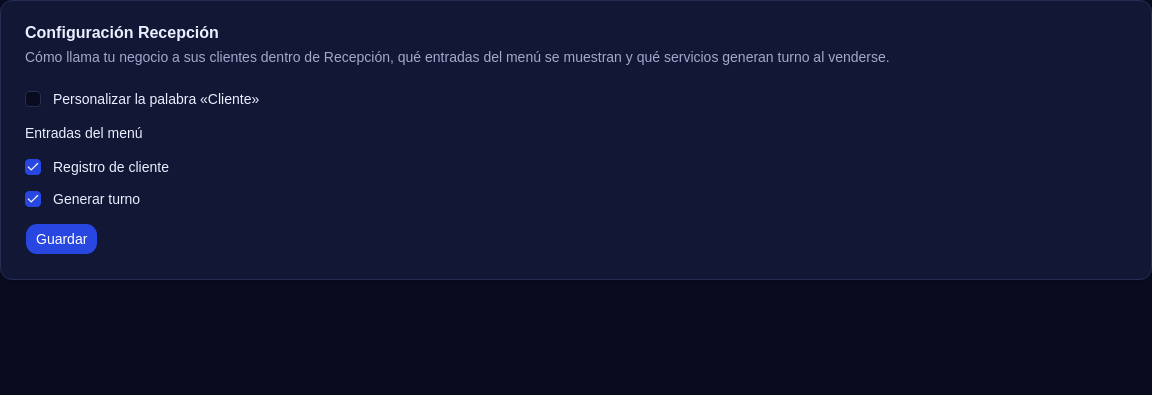
it: «Configuración Recepción» en Mi perfil (F9-RECEP-18) › el campo no admite espacios: se escriben y desaparecen
Click the checkbox named "Personalizar la palabra «Cliente»".
click(33, 99)  # box [25, 91, 41, 107]
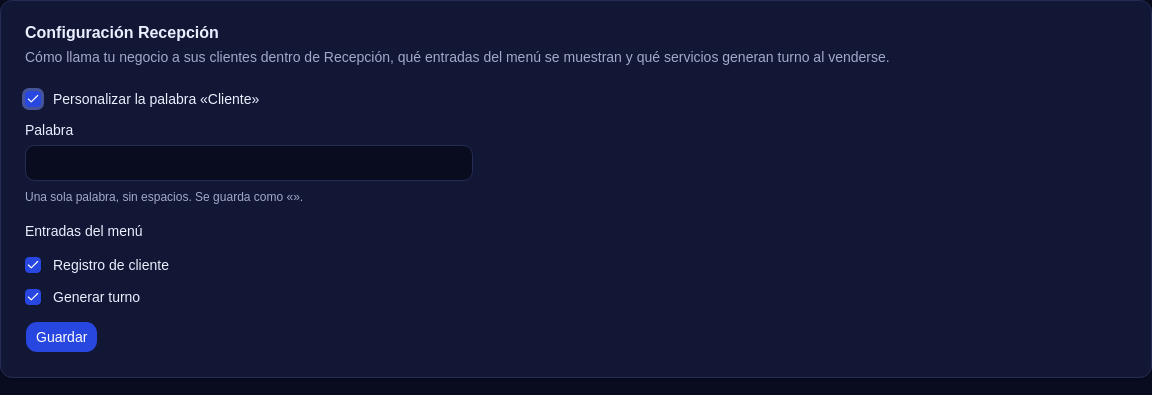
Type "pa ciente" into the field labelled "Palabra".
click(249, 163); type("pa ciente")  # box [25, 145, 473, 181]
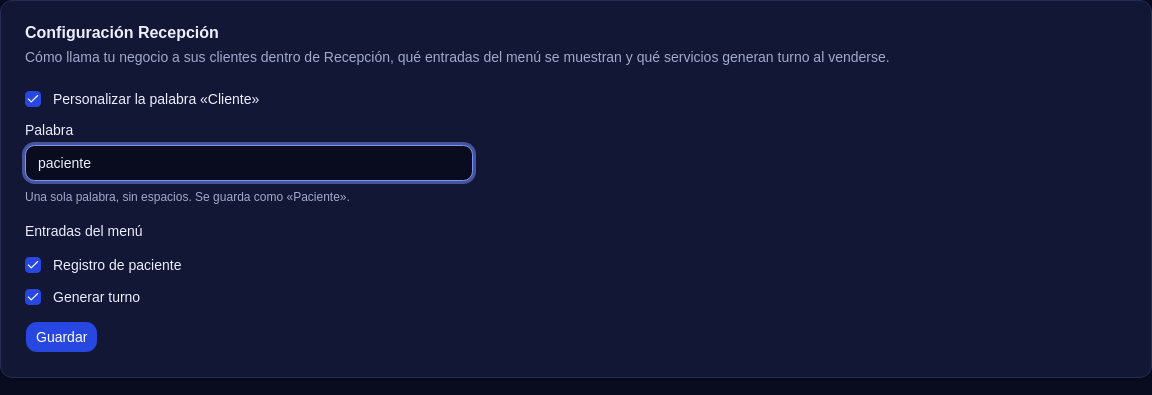
expect the field labelled "Palabra" holds "paciente": met, box [25, 145, 473, 181]
